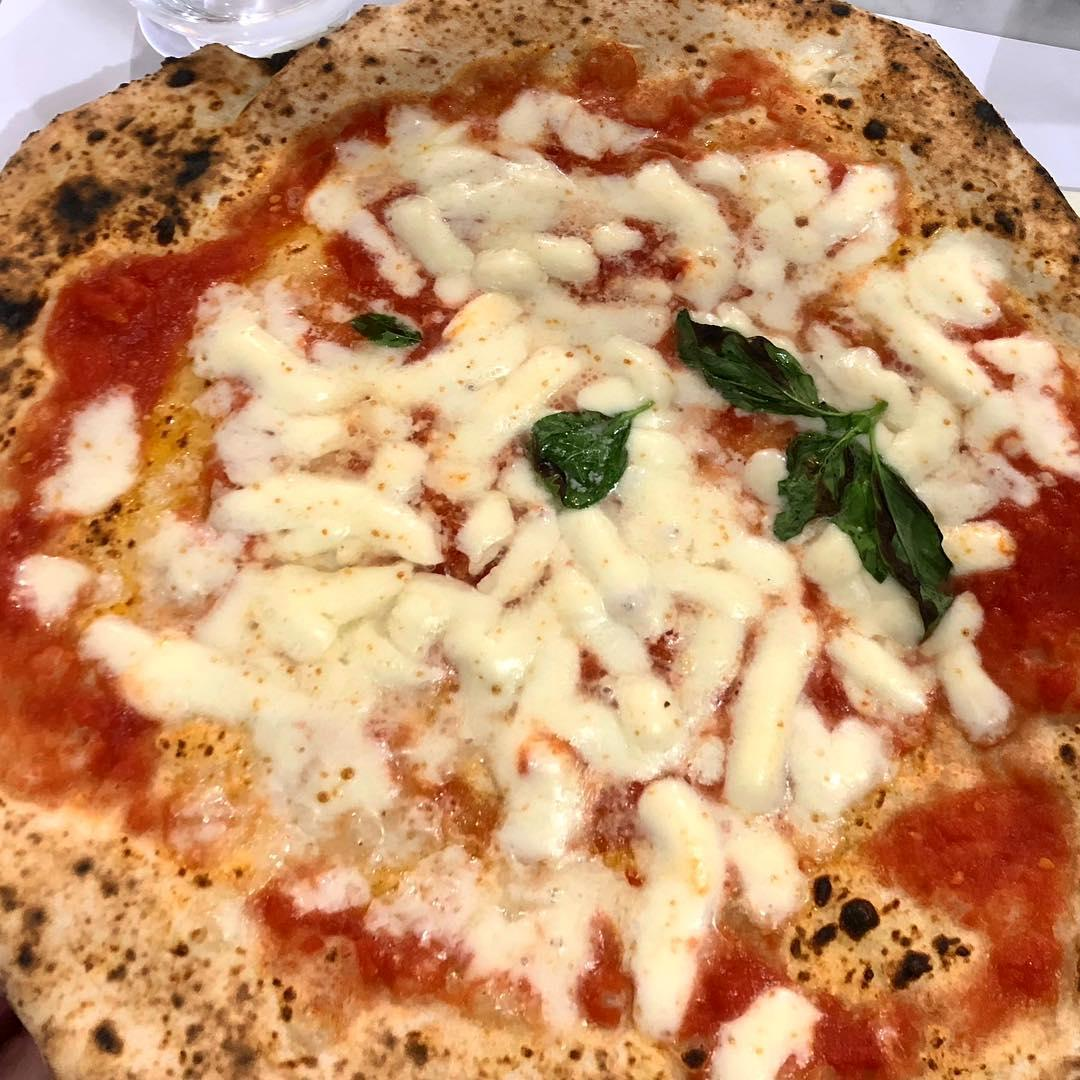Basil: (664, 301, 961, 658), (512, 392, 668, 513), (343, 307, 433, 356)
Pizza: (0, 0, 1080, 1080)
